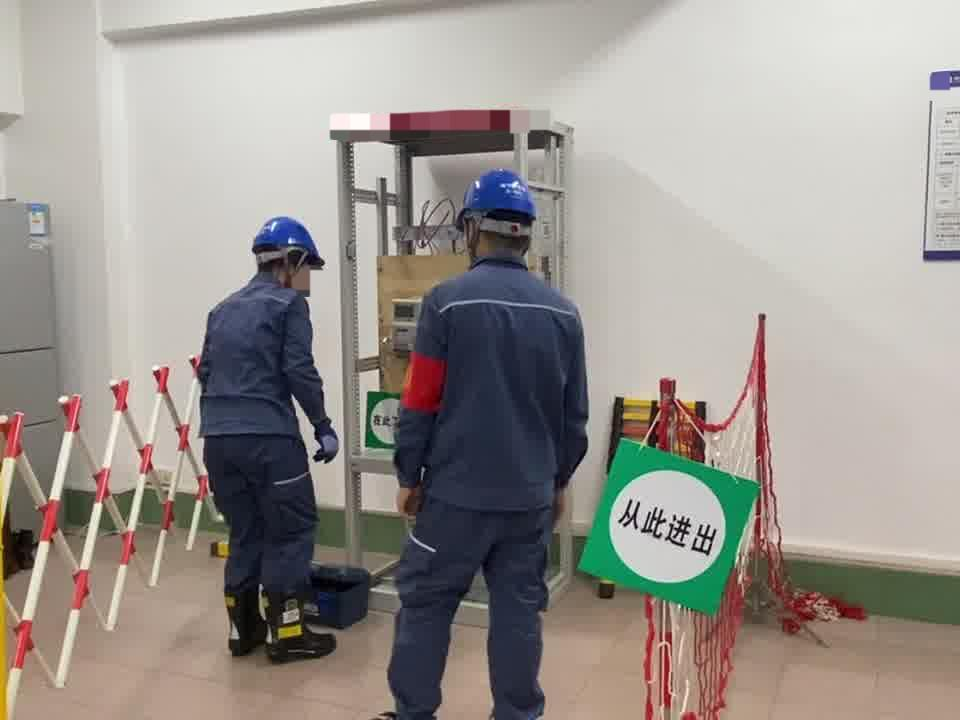halt: (459, 172, 543, 261), (252, 217, 327, 289)
inear: (278, 249, 309, 289), (461, 217, 488, 257)
